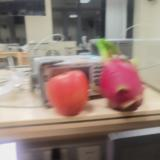apple: (46, 70, 87, 116)
pitaya: (97, 47, 144, 112)
